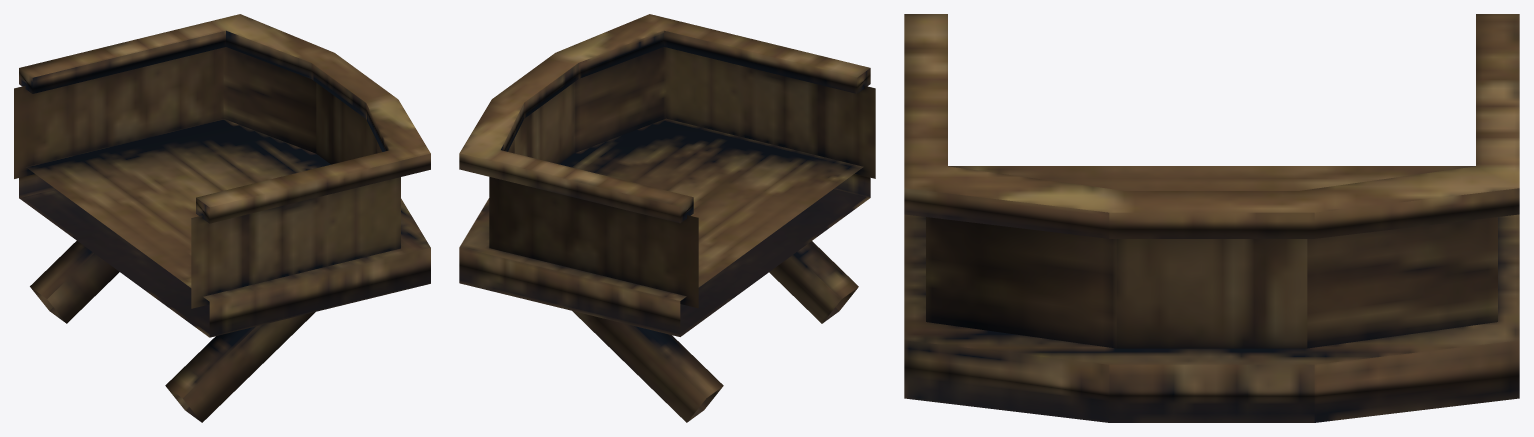
The model's file is HouseBalcony.fbx.
The picture shows the model from 3 angles, left to right: view 1: azimuth 30°, elevation 25°; view 2: azimuth 150°, elevation 25°; view 3: azimuth 270°, elevation 25°; orthographic projection. The views are drawn at different scales.
Visible parts, largest first — view 1: Balcony; view 2: Balcony; view 3: Balcony.
Part boxes in pixels (bbox=[...]): Balcony: bbox=[14, 14, 430, 422]; Balcony: bbox=[459, 14, 875, 422]; Balcony: bbox=[904, 14, 1519, 422].
Bounding box in the file's own units: 360 × 303 × 450.
